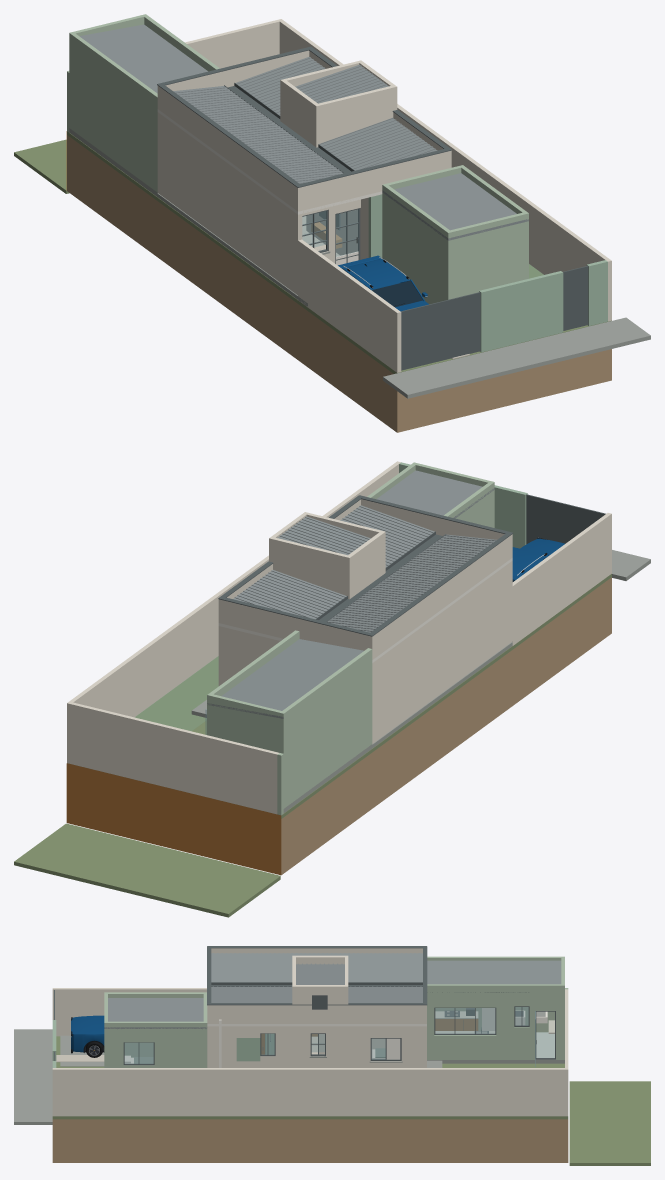
File: casa-bp-proposta-escolhida.glb
3 renders of one model, top to bottom at view 1: azimuth 30°, elevation 25°; view 2: azimuth 150°, elevation 25°; view 3: azimuth 270°, elevation 25°, orthographic. The views are drawn at different scales.
Visible parts, largest first — view 1: Solo em corte esquemático — perfil lateral não levantado, Parede cega / divisa do desenho, Fundos — fechamento esquerdo proposto, Passeio público — contexto ilustrativo, Muro lateral na divisa da casa — 2,00 m, Fechamento frontal com acessos sugeridos (×2), Portão sugerido — posição a confirmar (×2), Muro lateral direito do desenho — 2,00 m, Platibanda frente / fundo (×2), Volume elevado caixa d’água (×2), Suíte ampliada — lateral junto à vaga, Suíte ampliada — fachada frontal (+24 smaller); view 2: Solo em corte esquemático — perfil lateral não levantado, Face indicativa de contenção — 2 m estimados; seção e fundaç, Muro fundos — 2,00 m sobre terreno, Referência do nível do vizinho — extensão apenas ilustrativa, Parede cega / divisa do desenho, Muro lateral direito do desenho — 2,00 m, Fundos — fechamento esquerdo proposto, Muro lateral na divisa da casa — 2,00 m, Fundos — cobertura independente ilustrativa, Platibanda frente / fundo (×2), Volume elevado caixa d’água (×2), Terreno 7,50 × 20,00 m — cota plana provisória (+19 smaller); view 3: Muro lateral direito do desenho — 2,00 m, Solo em corte esquemático — perfil lateral não levantado, Referência do nível do vizinho — extensão apenas ilustrativa, Lateral existente — só janela do quarto reorganizada em A (×5), Platibanda lateral (×2), Pano 1 — social, Passeio público — contexto ilustrativo, Fundos — cobertura independente ilustrativa, Fundos — fechamento direito da cozinha (×4), Suíte ampliada — lateral para o corredor (×3), Terreno 7,50 × 20,00 m — cota plana provisória, Suíte ampliada — cobertura ilustrativa (+22 smaller).
Boxes of the visible parts, left/top/right/bottom form: Solo em corte esquemático — perfil lateral não levantado: left=67, top=135, right=611, bottom=432; Parede cega / divisa do desenho: left=157, top=112, right=302, bottom=295; Fundos — fechamento esquerdo proposto: left=69, top=47, right=157, bottom=192; Passeio público — contexto ilustrativo: left=383, top=317, right=650, bottom=398; Muro lateral na divisa da casa — 2,00 m: left=298, top=239, right=401, bottom=372; Fechamento frontal com acessos sugeridos (×2): left=479, top=260, right=607, bottom=352; Portão sugerido — posição a confirmar (×2): left=400, top=266, right=588, bottom=370; Muro lateral direito do desenho — 2,00 m: left=278, top=19, right=611, bottom=321; Platibanda frente / fundo (×2): left=165, top=50, right=447, bottom=210; Volume elevado caixa d’água (×2): left=280, top=79, right=393, bottom=147; Suíte ampliada — lateral junto à vaga: left=382, top=194, right=452, bottom=304; Suíte ampliada — fachada frontal: left=446, top=224, right=524, bottom=299; Solo em corte esquemático — perfil lateral não levantado: left=281, top=577, right=611, bottom=874; Face indicativa de contenção — 2 m estimados; seção e fundaç: left=66, top=763, right=281, bottom=875; Muro fundos — 2,00 m sobre terreno: left=71, top=702, right=278, bottom=814; Referência do nível do vizinho — extensão apenas ilustrativa: left=14, top=823, right=280, bottom=917; Parede cega / divisa do desenho: left=372, top=561, right=512, bottom=743; Muro lateral direito do desenho — 2,00 m: left=67, top=461, right=400, bottom=763; Fundos — fechamento esquerdo proposto: left=279, top=663, right=372, bottom=808; Muro lateral na divisa da casa — 2,00 m: left=512, top=513, right=611, bottom=645; Fundos — cobertura independente ilustrativa: left=207, top=639, right=363, bottom=718; Platibanda frente / fundo (×2): left=222, top=499, right=504, bottom=650; Volume elevado caixa d’água (×2): left=273, top=531, right=385, bottom=599; Terreno 7,50 × 20,00 m — cota plana provisória: left=135, top=574, right=611, bottom=818; Muro lateral direito do desenho — 2,00 m: left=52, top=1068, right=568, bottom=1116; Solo em corte esquemático — perfil lateral não levantado: left=52, top=1119, right=568, bottom=1162; Referência do nível do vizinho — extensão apenas ilustrativa: left=569, top=1081, right=650, bottom=1165; Lateral existente — só janela do quarto reorganizada em A (×5): left=207, top=1026, right=426, bottom=1067; Platibanda lateral (×2): left=207, top=948, right=426, bottom=1023; Pano 1 — social: left=211, top=953, right=422, bottom=982; Passeio público — contexto ilustrativo: left=14, top=1029, right=52, bottom=1124; Fundos — cobertura independente ilustrativa: left=427, top=960, right=561, bottom=984; Fundos — fechamento direito da cozinha (×4): left=427, top=997, right=504, bottom=1059; Suíte ampliada — lateral para o corredor (×3): left=104, top=1030, right=207, bottom=1067; Terreno 7,50 × 20,00 m — cota plana provisória: left=52, top=1036, right=568, bottom=1119; Suíte ampliada — cobertura ilustrativa: left=104, top=998, right=207, bottom=1029.
Size of the model in its own units: 8.5 by 6.68 by 24.7.
